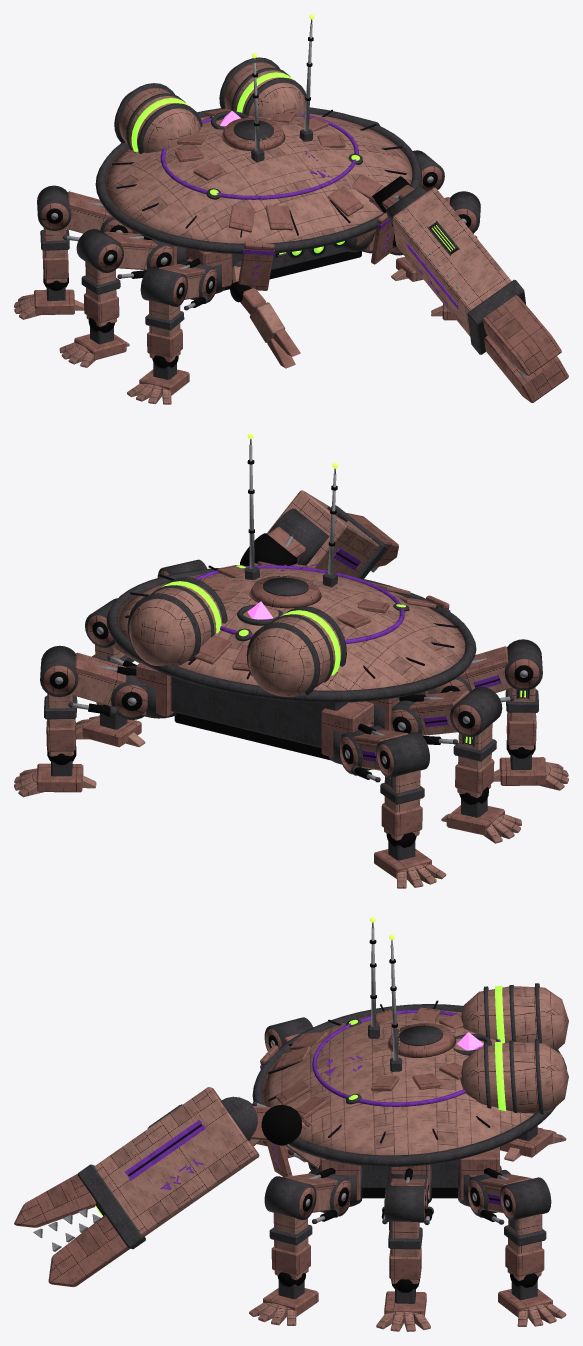
Rendered from alien_bigboy.glb.
The picture shows the model from 3 angles, top to bottom: view 1: azimuth 30°, elevation 25°; view 2: azimuth 150°, elevation 25°; view 3: azimuth 270°, elevation 25°; orthographic projection. The views are drawn at different scales.
Visible parts, largest first — view 1: shell_bigboy_armor, shell_bigboy_frame, claw_L_bigboy_armor, shell_bigboy_armor2, pincer_L_bigboy_armor2, claw_L_bigboy_frame, claw_L_bigboy_armor2, shell_bigboy_livery, leg_R1_tibia_bigboy_frame, leg_R2_tibia_bigboy_frame, leg_R3_tibia_bigboy_frame, leg_R2_tibia_bigboy_armor2 (+23 smaller); view 2: shell_bigboy_armor, shell_bigboy_frame, body_bigboy_frame, shell_bigboy_armor2, body_bigboy_armor2, claw_L_bigboy_armor, leg_R3_tibia_bigboy_frame, claw_L_bigboy_frame, leg_R2_tibia_bigboy_frame, body_bigboy_dark, leg_R1_tibia_bigboy_frame, leg_L3_femur_bigboy_armor2 (+28 smaller); view 3: shell_bigboy_armor, claw_L_bigboy_armor, shell_bigboy_frame, shell_bigboy_armor2, claw_L_bigboy_armor2, claw_L_bigboy_frame, pincer_L_bigboy_armor2, leg_L3_tibia_bigboy_frame, leg_L2_tibia_bigboy_frame, leg_L1_tibia_bigboy_frame, body_bigboy_armor2, shell_bigboy_livery (+21 smaller).
Boxes of the visible parts, x1,y1,x2,y2 form: shell_bigboy_armor: (105,62,412,243); shell_bigboy_frame: (95,57,421,258); claw_L_bigboy_armor: (392,187,511,336); shell_bigboy_armor2: (175,108,394,290); pincer_L_bigboy_armor2: (483,295,561,375); claw_L_bigboy_frame: (386,186,525,354); claw_L_bigboy_armor2: (484,335,568,402); shell_bigboy_livery: (160,112,390,283); leg_R1_tibia_bigboy_frame: (140,267,188,330); leg_R2_tibia_bigboy_frame: (76,229,123,294); leg_R3_tibia_bigboy_frame: (37,185,71,250); leg_R2_tibia_bigboy_armor2: (84,244,121,323); shell_bigboy_armor: (117,568,465,696); shell_bigboy_frame: (106,565,476,702); body_bigboy_frame: (171,676,370,747); shell_bigboy_armor2: (194,561,449,671); body_bigboy_armor2: (136,662,428,756); claw_L_bigboy_armor: (267,490,378,576); leg_R3_tibia_bigboy_frame: (375,732,429,804); claw_L_bigboy_frame: (268,505,387,578); leg_R2_tibia_bigboy_frame: (450,686,502,761); body_bigboy_dark: (174,713,330,760); leg_R1_tibia_bigboy_frame: (504,639,542,712); leg_L3_femur_bigboy_armor2: (74,652,147,717); shell_bigboy_armor: (261,986,568,1155); claw_L_bigboy_armor: (94,1087,259,1236); shell_bigboy_frame: (252,983,566,1166); shell_bigboy_armor2: (260,1007,463,1177); claw_L_bigboy_armor2: (48,1215,129,1287); claw_L_bigboy_frame: (77,1096,257,1249); pincer_L_bigboy_armor2: (14,1173,96,1227); leg_L3_tibia_bigboy_frame: (499,1177,551,1246); leg_L2_tibia_bigboy_frame: (382,1185,429,1249); leg_L1_tibia_bigboy_frame: (264,1176,317,1245); body_bigboy_armor2: (320,1147,499,1200); shell_bigboy_livery: (260,1009,500,1166).
Bounding box in the file's own units: 42.08 × 30 × 47.55.
Materials: 12 (6 with a texture image).
